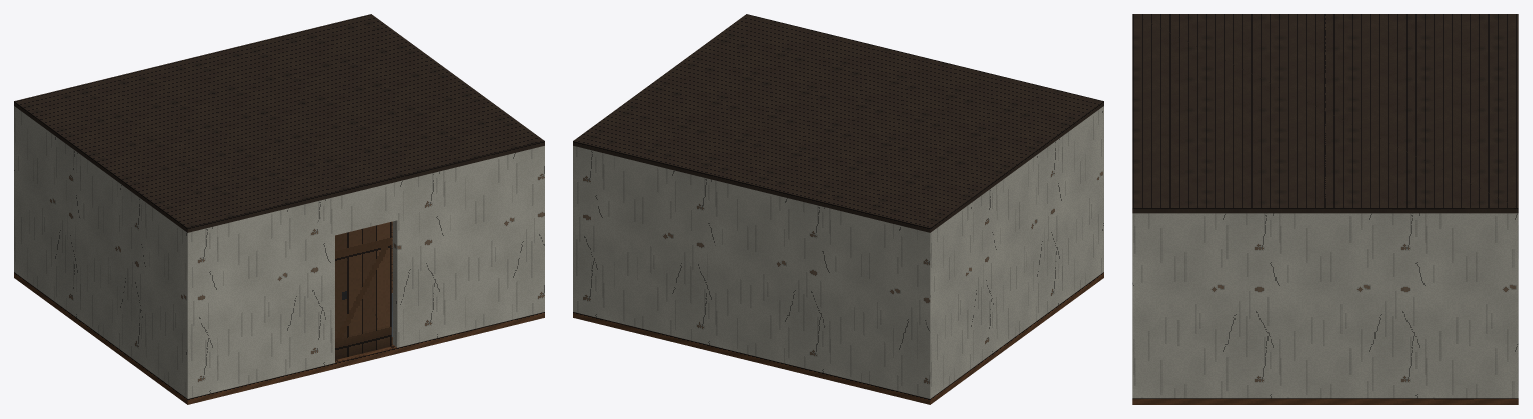
File: professora.glb
3 renders of one model, left to right at view 1: azimuth 30°, elevation 25°; view 2: azimuth 150°, elevation 25°; view 3: azimuth 270°, elevation 25°, orthographic. The views are drawn at different scales.
Parts seen in each view (by area): view 1: sala-col, teto-col; view 2: sala-col, teto-col; view 3: teto-col, sala-col.
Boxes of the visible parts, bbox=[...] form: sala-col: bbox=[14, 106, 544, 404]; teto-col: bbox=[14, 14, 544, 232]; sala-col: bbox=[573, 106, 1103, 404]; teto-col: bbox=[573, 14, 1103, 232]; teto-col: bbox=[1132, 14, 1518, 213]; sala-col: bbox=[1132, 213, 1518, 404].
Size of the model in its own units: 6.3 by 2.98 by 5.3.
Materials: 12 (12 with a texture image).
